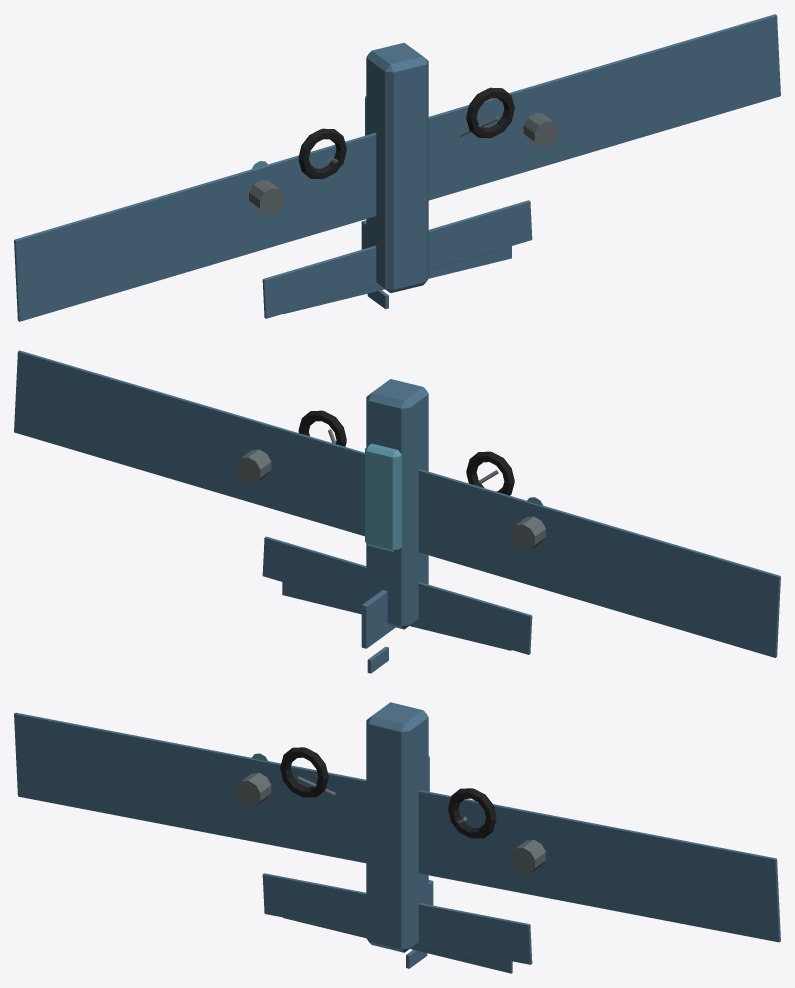
3 renders of one model, top to bottom at view 1: azimuth 30°, elevation 25°; view 2: azimuth 150°, elevation 25°; view 3: azimuth 330°, elevation 25°, orthographic.
Visible parts, largest first — view 1: main_wing.051, fuselage.046, horizontal_tail.051, wheel_1.044, wheel_0.044, elevator.051, turbofan.012, turbofan.010; view 2: main_wing.051, fuselage.046, horizontal_tail.051, aileron_L.051, aileron_R.051, canopy.046, elevator.051, vertical_tail.051, wheel_0.044, turbofan.012, turbofan.010, wheel_1.044; view 3: main_wing.051, fuselage.046, horizontal_tail.051, elevator.051, wheel_0.044, wheel_1.044, turbofan.010, turbofan.012.
Boxes of the visible parts, bbox=[...] form: main_wing.051: bbox=[14, 14, 780, 321]; fuselage.046: bbox=[366, 42, 428, 293]; horizontal_tail.051: bbox=[262, 200, 532, 318]; wheel_1.044: bbox=[466, 87, 514, 138]; wheel_0.044: bbox=[298, 128, 346, 178]; elevator.051: bbox=[283, 246, 511, 313]; turbofan.012: bbox=[523, 113, 558, 147]; turbofan.010: bbox=[249, 180, 283, 214]; main_wing.051: bbox=[14, 350, 780, 657]; fuselage.046: bbox=[366, 379, 428, 629]; horizontal_tail.051: bbox=[262, 536, 532, 654]; aileron_L.051: bbox=[572, 535, 770, 607]; aileron_R.051: bbox=[23, 401, 220, 473]; canopy.046: bbox=[365, 443, 401, 552]; elevator.051: bbox=[282, 575, 511, 650]; vertical_tail.051: bbox=[361, 590, 395, 648]; wheel_0.044: bbox=[466, 451, 514, 495]; turbofan.012: bbox=[236, 449, 271, 483]; turbofan.010: bbox=[511, 516, 545, 550]; wheel_1.044: bbox=[298, 410, 346, 446]; main_wing.051: bbox=[14, 712, 780, 942]; fuselage.046: bbox=[366, 702, 428, 952]; horizontal_tail.051: bbox=[262, 873, 532, 964]; elevator.051: bbox=[283, 917, 512, 973]; wheel_0.044: bbox=[280, 747, 328, 797]; wheel_1.044: bbox=[448, 788, 496, 838]; turbofan.010: bbox=[236, 772, 271, 807]; turbofan.012: bbox=[511, 839, 545, 874].
Size of the model in its own units: 31.61 by 10.37 by 3.61.
